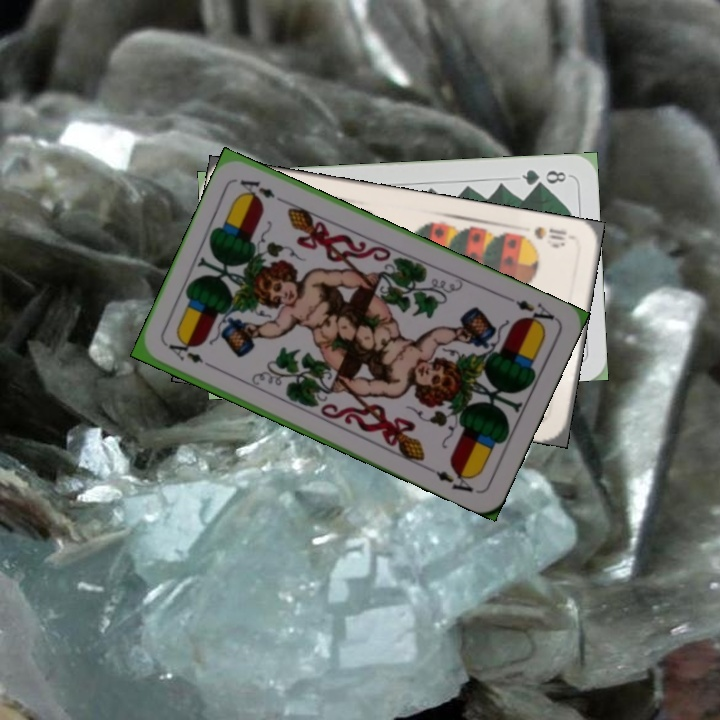EA: (502, 292, 558, 330), (162, 339, 206, 366)
G8: (518, 165, 572, 189)
S10: (530, 222, 569, 249)
